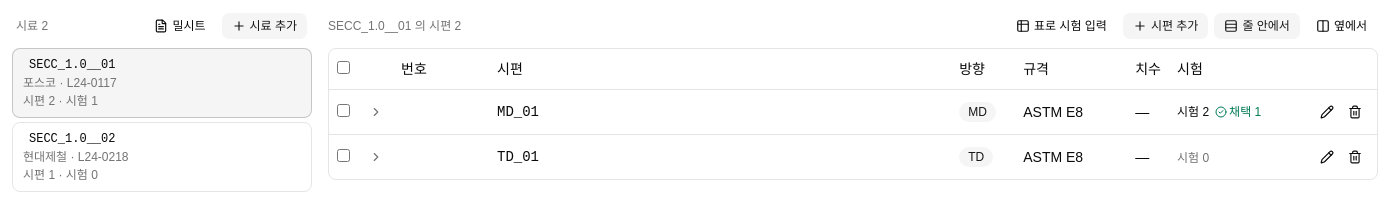
Scenario: 선택 › 시료를 바꾸면 그 시료의 시편으로 갈린다
This screenshot has width=1390, height=209.
Expected: the text "MD_01" is shown, [497, 104, 539, 120]
Click the text "SECC_1.0__02". click: click(43, 139)
box: [29, 132, 115, 146]
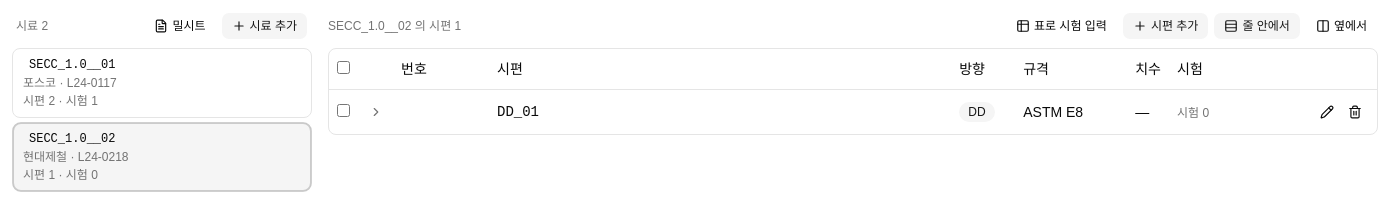
Now the text "DD_01" is shown, box [497, 104, 539, 120]
Now the text "MD_01" is gone
